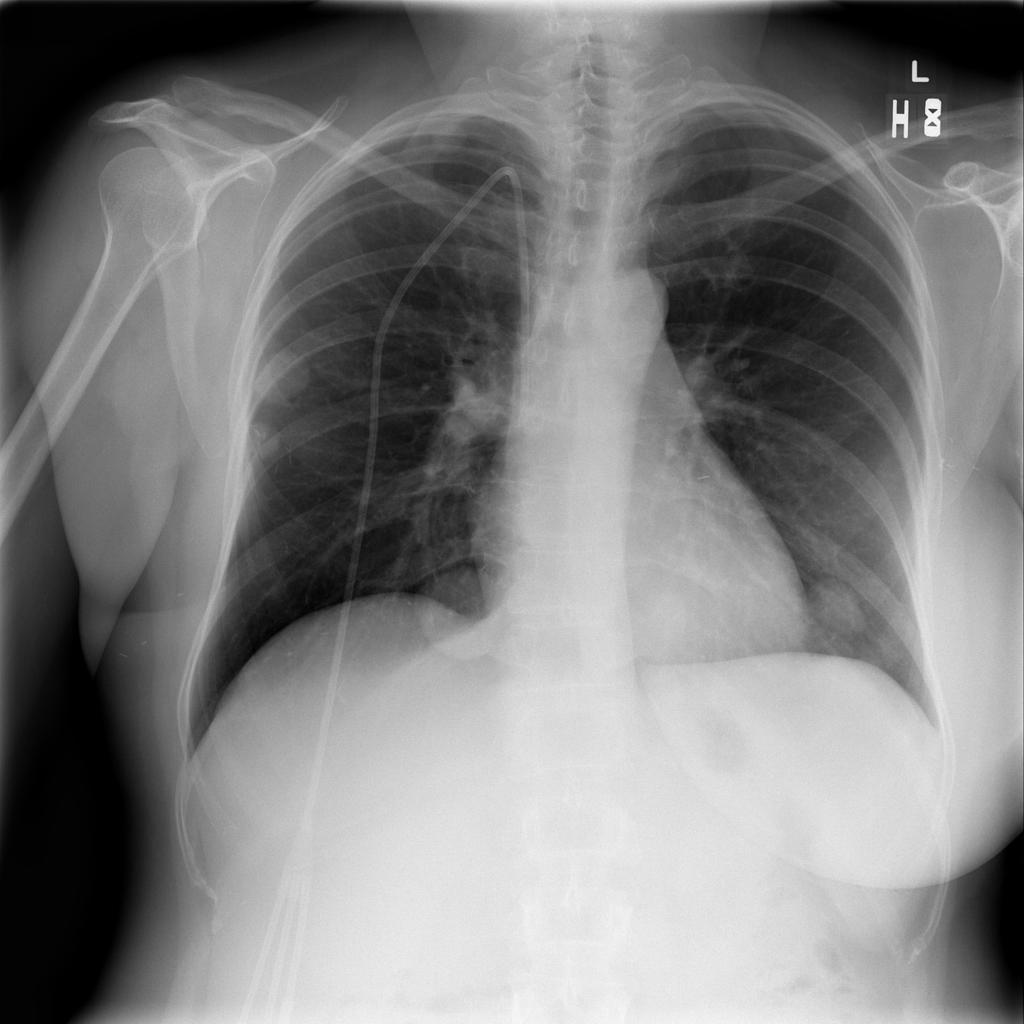nodule: (403, 545, 515, 664), (620, 565, 717, 681), (798, 570, 877, 649), (244, 337, 317, 416), (239, 412, 289, 469)
